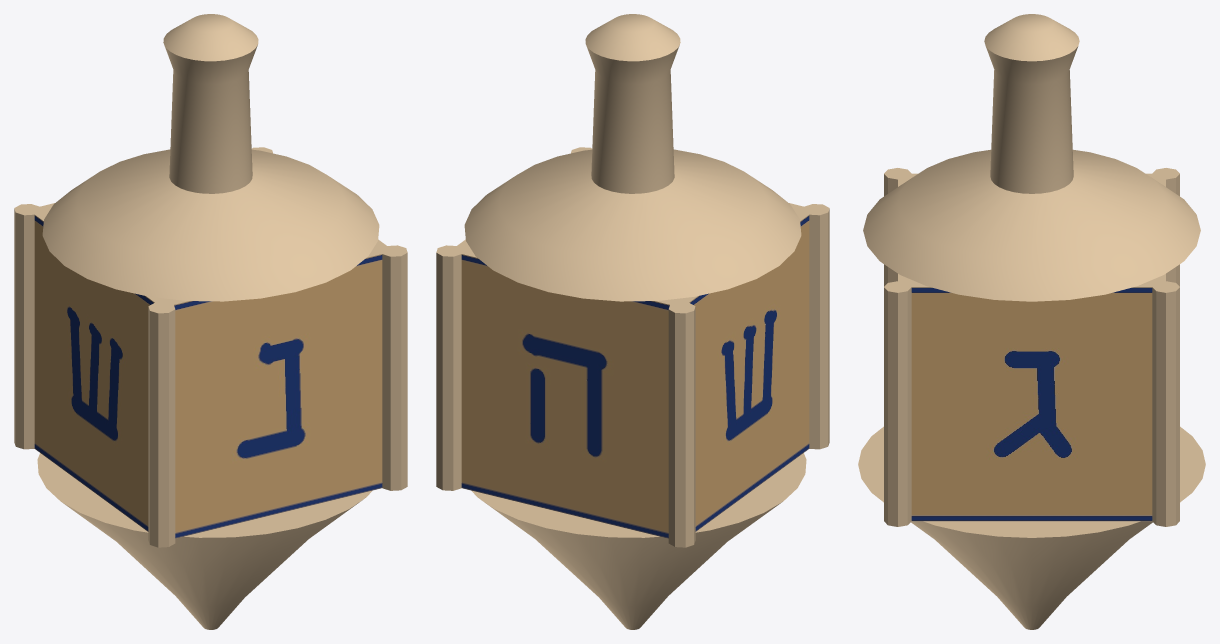
Rendered from dreidel_wood.glb.
3 renders of one model, left to right at view 1: azimuth 30°, elevation 25°; view 2: azimuth 150°, elevation 25°; view 3: azimuth 270°, elevation 25°, orthographic.
Visible parts, largest first — view 1: Dreidel_wood; view 2: Dreidel_wood; view 3: Dreidel_wood.
Part boxes in pixels (x1,y1,x2,y2): Dreidel_wood: (14, 14, 407, 629); Dreidel_wood: (436, 14, 829, 629); Dreidel_wood: (858, 14, 1205, 629).
Size of the model in its own units: 0.035 by 0.067 by 0.035.
Materials: 2 (1 with a texture image).
